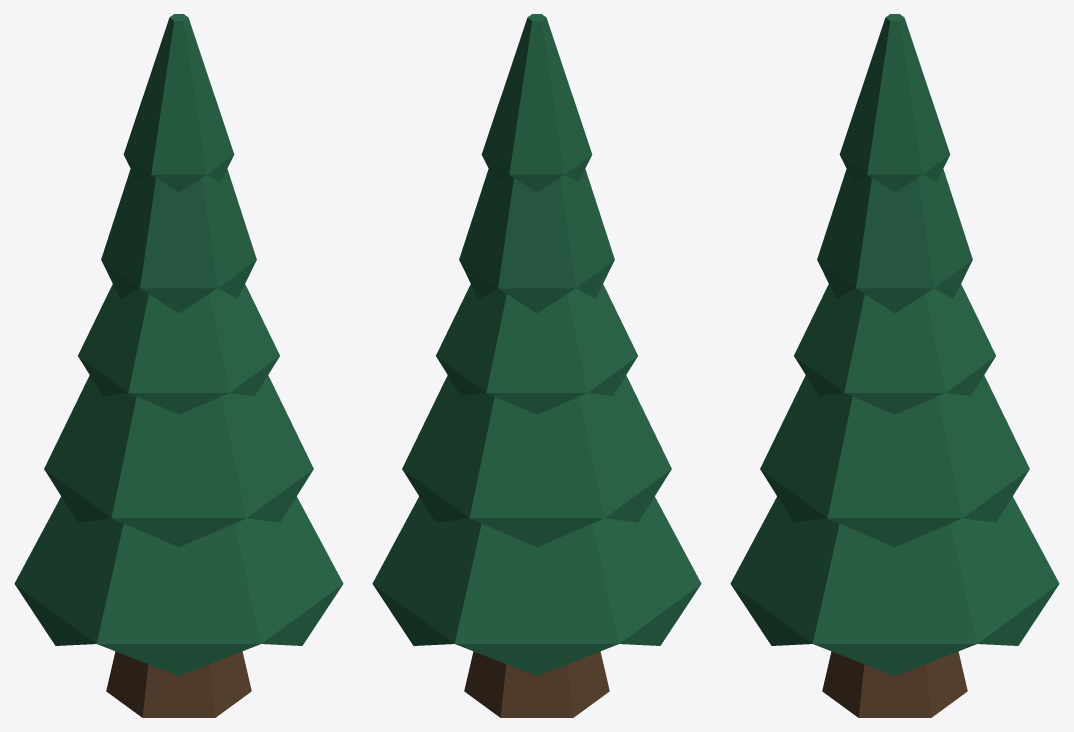
File: pine.glb
The picture shows the model from 3 angles, left to right: view 1: azimuth 30°, elevation 25°; view 2: azimuth 150°, elevation 25°; view 3: azimuth 270°, elevation 25°; orthographic projection.
Visible parts, largest first — view 1: tree_pineRoundC; view 2: tree_pineRoundC; view 3: tree_pineRoundC.
Part boxes in pixels (x1=…): tree_pineRoundC: x1=14, y1=14, x2=343, y2=717; tree_pineRoundC: x1=372, y1=14, x2=701, y2=717; tree_pineRoundC: x1=730, y1=14, x2=1059, y2=717.
Size of the model in its own units: 0.3834 by 1 by 0.4427.
